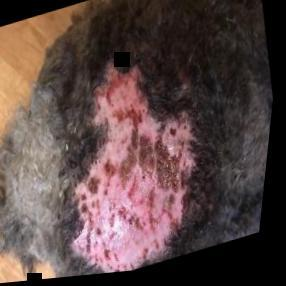skin_lesions: (28, 28, 235, 282)
